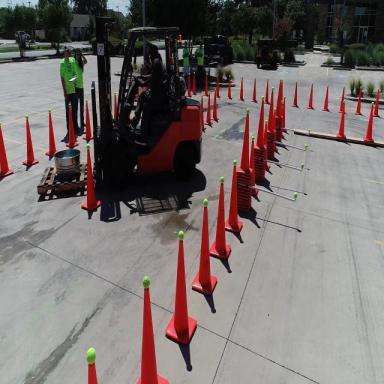forklift: (38, 16, 205, 195)
